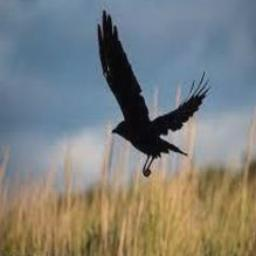Crow: (96, 9, 210, 179)
